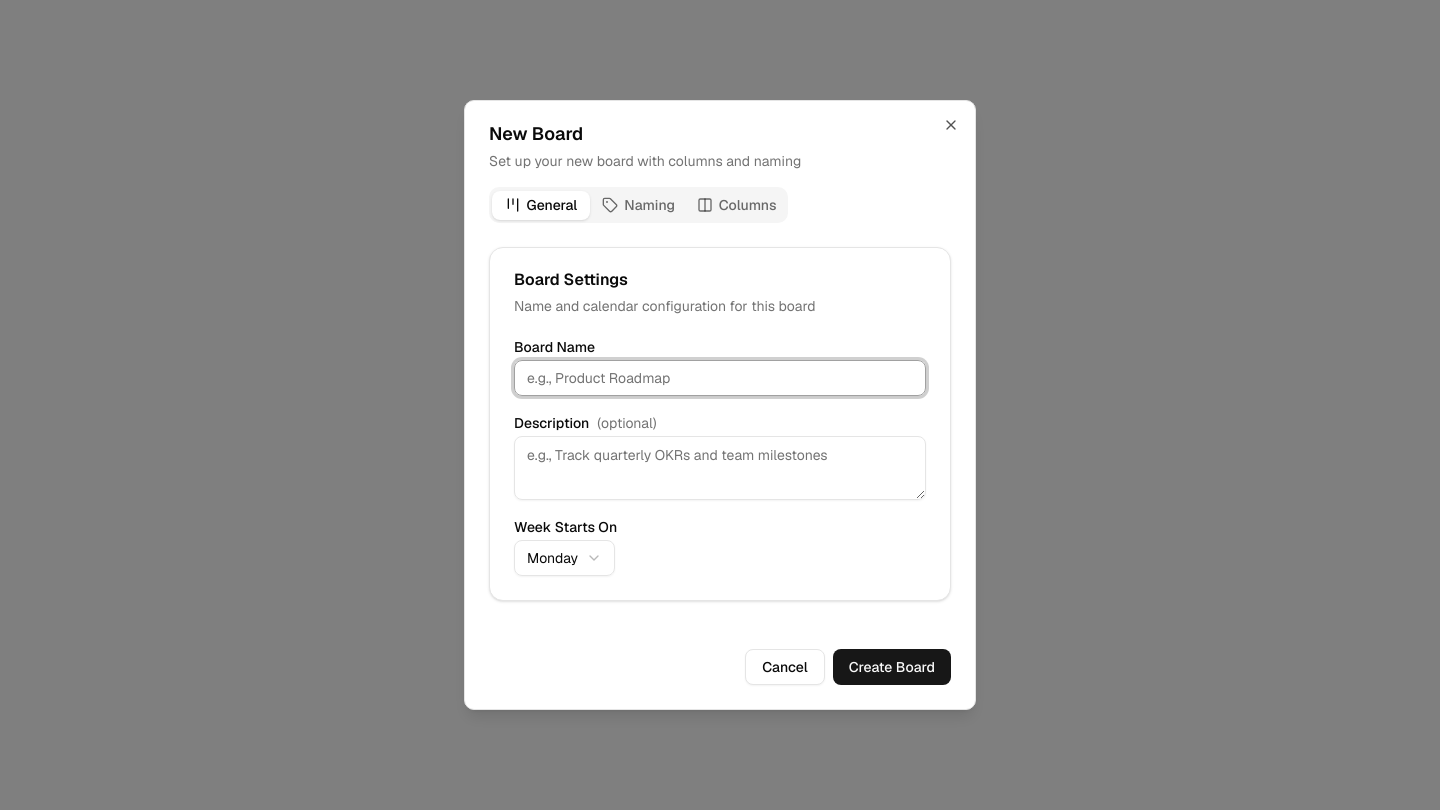
Test: BoardModal — validation › shows a validation message when submitted without a board name
Click the button "Create Board": (892, 667) [833, 649, 951, 685]
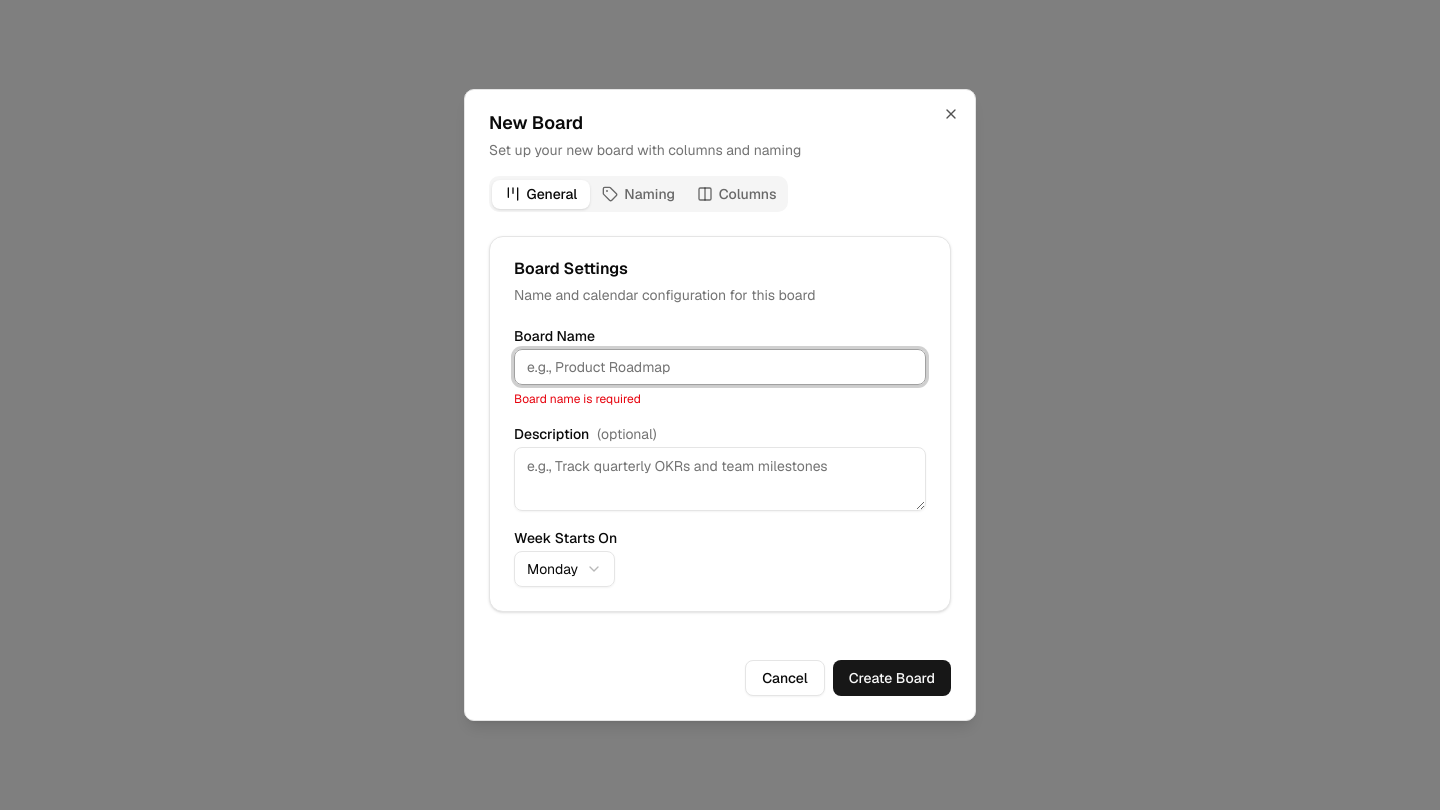
Check: the text "Board name is required" is shown, box [514, 391, 641, 407]
